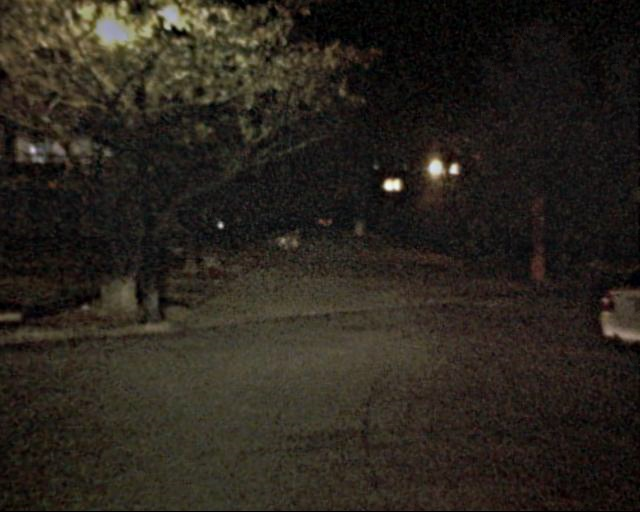person: (349, 222, 367, 267)
